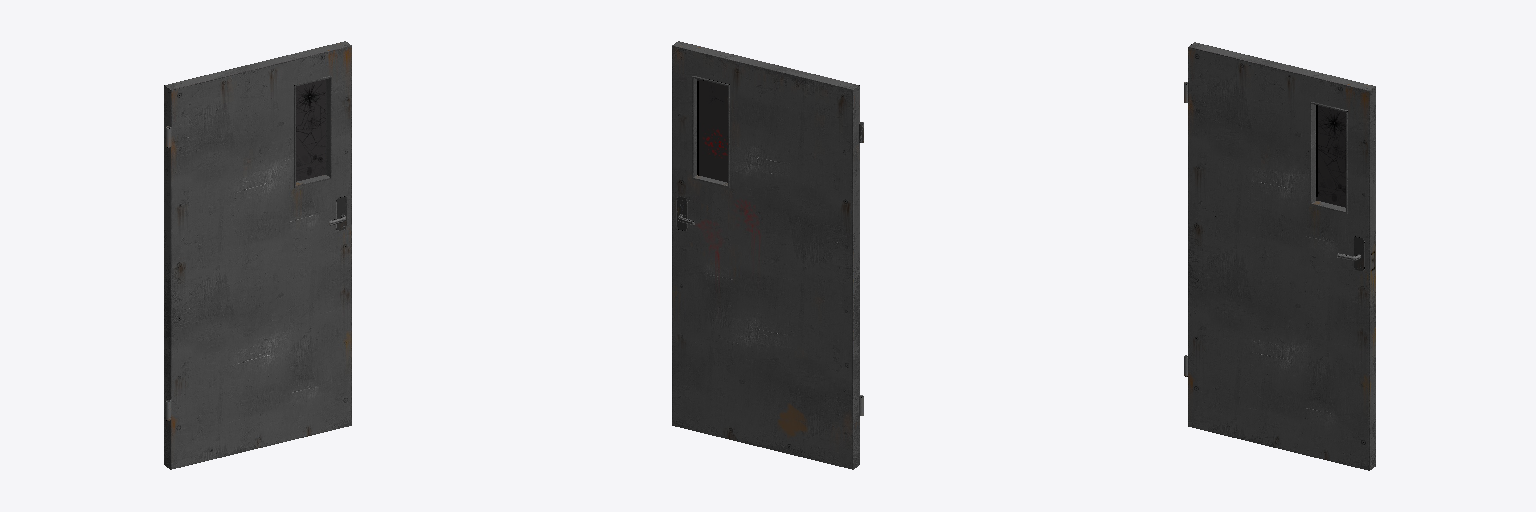
3 views of the same model, side by side, from view 1: azimuth 30°, elevation 25°; view 2: azimuth 150°, elevation 25°; view 3: azimuth 330°, elevation 25° (orthographic).
Parts seen in each view (by area): view 1: Plane; view 2: Plane; view 3: Plane.
Part boxes in pixels (x1,y1,x2,y2): Plane: (164,41,351,469); Plane: (672,41,863,469); Plane: (1184,42,1375,470).
Size of the model in its own units: 2.05 by 4 by 0.3345.
Materials: 1 (1 with a texture image).